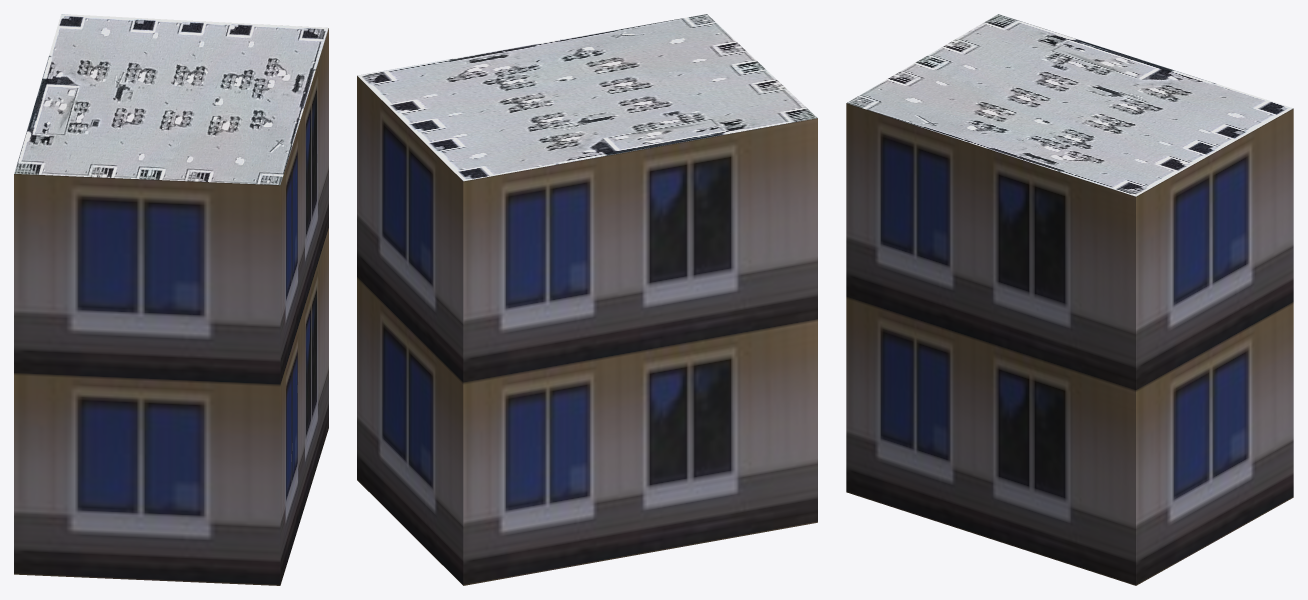
File: ResTex__1947.fbx
3 views of the same model, side by side, from view 1: azimuth 30°, elevation 25°; view 2: azimuth 150°, elevation 25°; view 3: azimuth 270°, elevation 25° (orthographic). The views are drawn at different scales.
Parts seen in each view (by area): view 1: CityEngineMaterial_5_m, CityEngineMaterial_8_m; view 2: CityEngineMaterial_5_m, CityEngineMaterial_8_m; view 3: CityEngineMaterial_5_m, CityEngineMaterial_8_m.
Boxes of the visible parts, x1=… form: CityEngineMaterial_5_m: x1=14, y1=28, x2=328, y2=585; CityEngineMaterial_8_m: x1=14, y1=14, x2=328, y2=185; CityEngineMaterial_5_m: x1=357, y1=76, x2=817, y2=585; CityEngineMaterial_8_m: x1=357, y1=14, x2=817, y2=181; CityEngineMaterial_5_m: x1=846, y1=103, x2=1293, y2=585; CityEngineMaterial_8_m: x1=847, y1=14, x2=1292, y2=196.
Bounding box in the file's own units: 6.04 × 6 × 6.25.
Materials: 2 (2 with a texture image).
